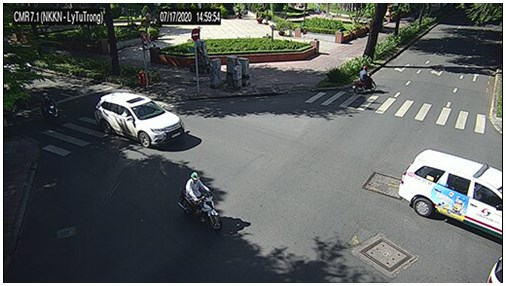xe_hoi: (94, 92, 185, 149)
xe_may: (178, 170, 222, 232), (40, 92, 62, 128), (352, 65, 377, 93)
xe_taxi: (399, 149, 502, 240)
